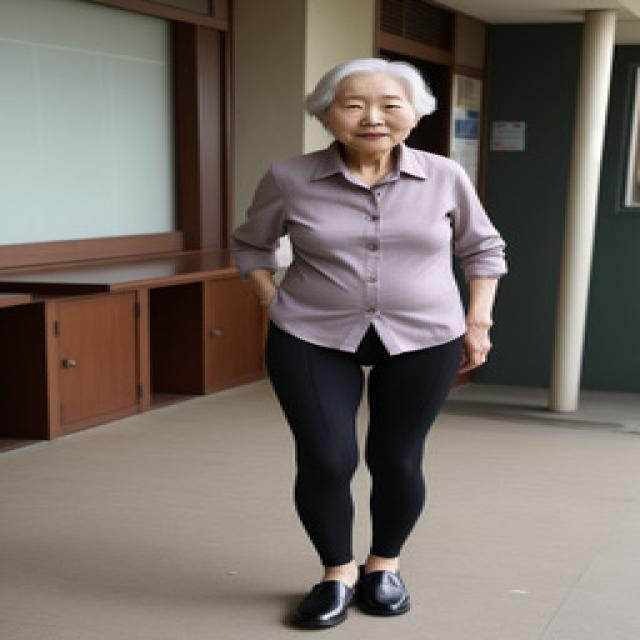Ai human 2: (212, 42, 529, 640)
